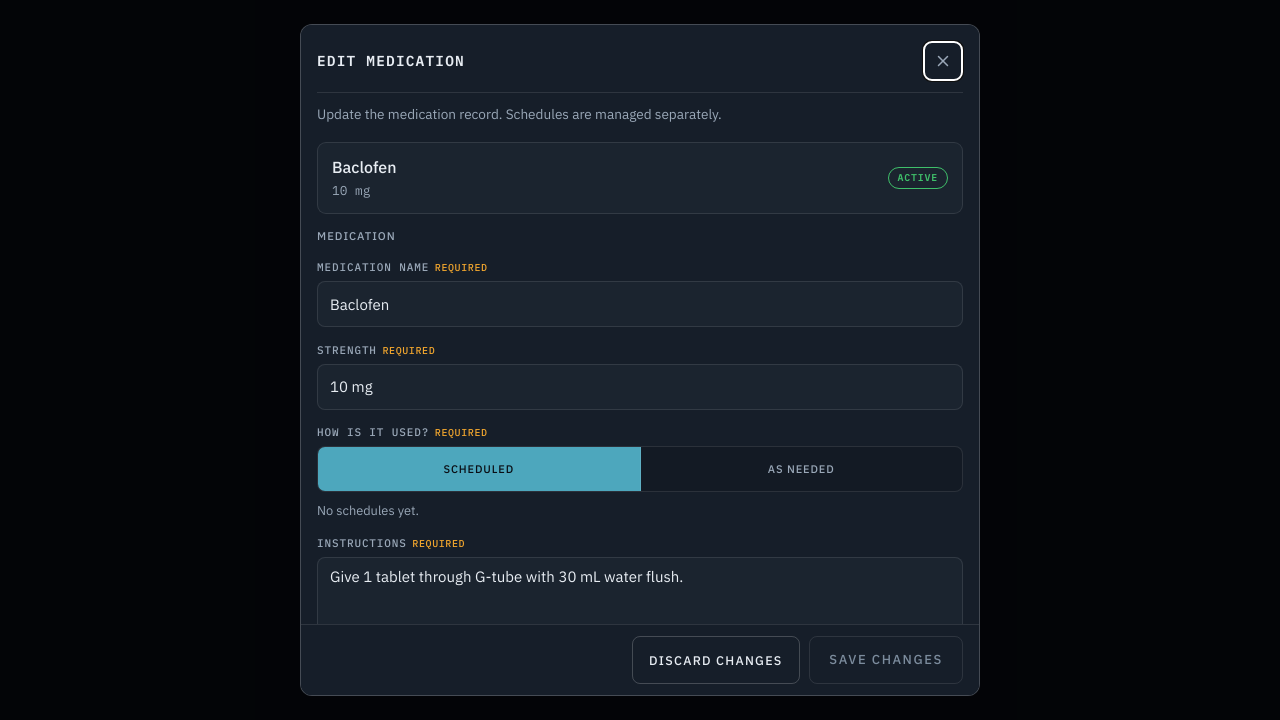
Test: editing a medication › discards back to the saved record
Replace the text in the field labelled "Medication name Required" with "Something else" at x=640, y=304, box [317,281,963,327]
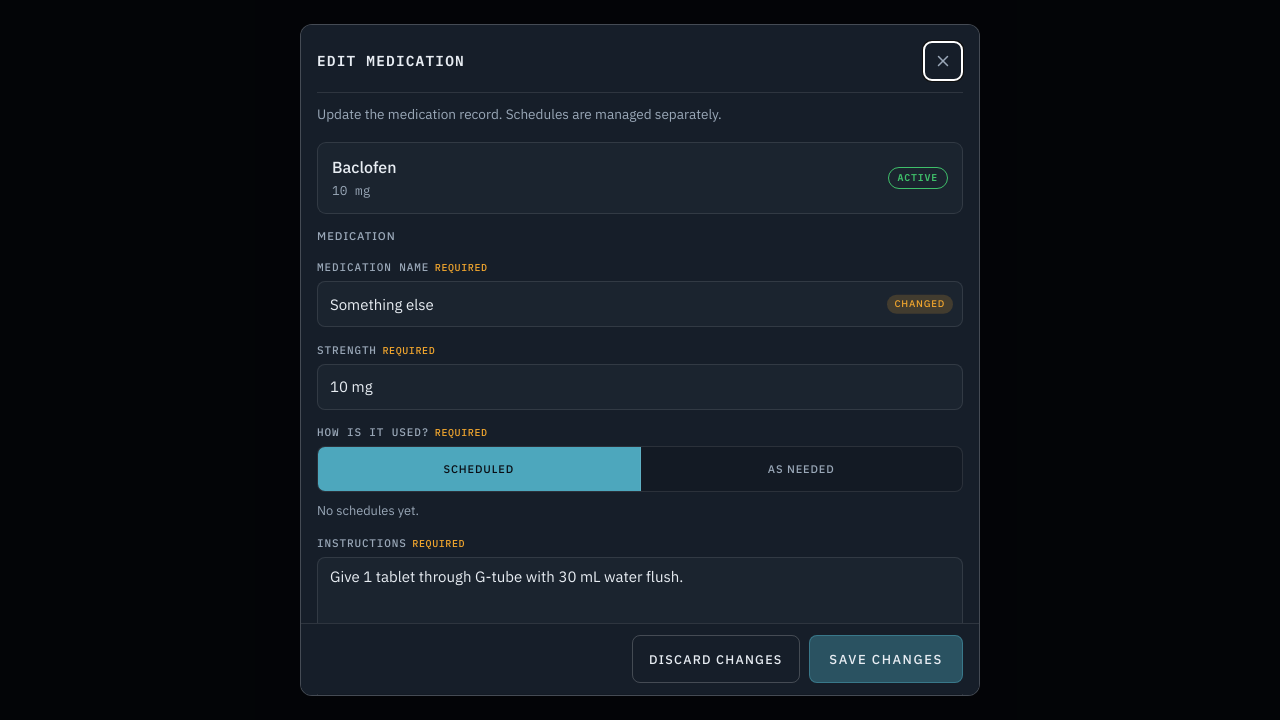
Click the button "Discard changes".
click(716, 660)  # box [632,636,800,684]
(page scrolled)
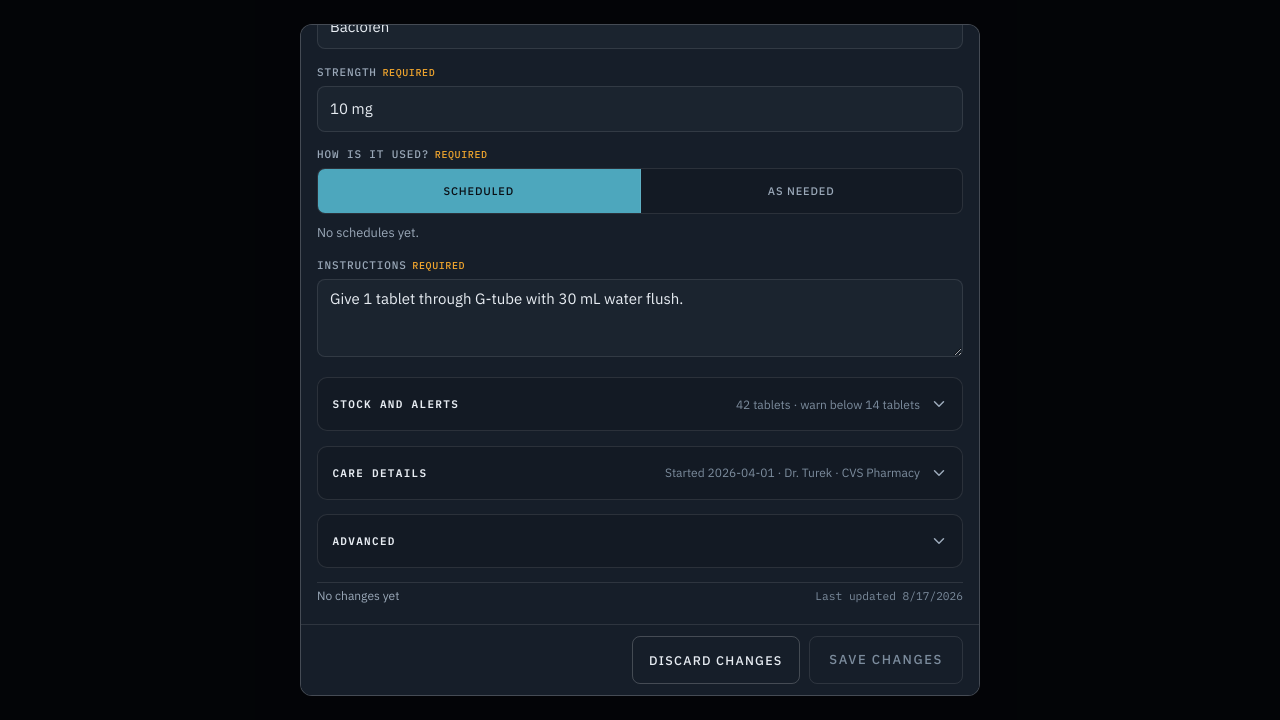
Expected: the text "No changes yet" is shown, [317,587,399,605]
